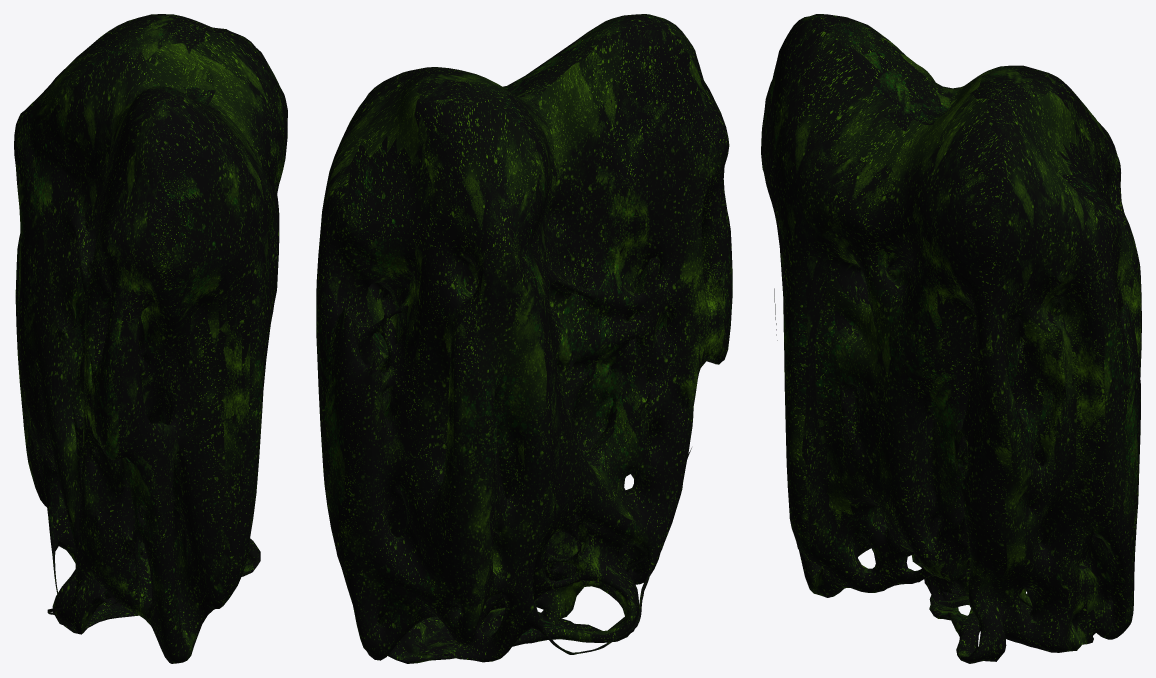
Rendered from die-reisende-slime8.glb.
3 renders of one model, left to right at view 1: azimuth 30°, elevation 25°; view 2: azimuth 150°, elevation 25°; view 3: azimuth 270°, elevation 25°, orthographic.
Parts seen in each view (by area): view 1: Volume Mesher (Copy) (Copy); view 2: Volume Mesher (Copy) (Copy); view 3: Volume Mesher (Copy) (Copy).
Boxes of the visible parts, left/top/right/bottom form: Volume Mesher (Copy) (Copy): left=14, top=14, right=287, bottom=663; Volume Mesher (Copy) (Copy): left=316, top=14, right=732, bottom=663; Volume Mesher (Copy) (Copy): left=761, top=14, right=1141, bottom=663.
Bounding box in the file's own units: 2.98 × 5.79 × 3.49.
Materials: 2 (2 with a texture image).
